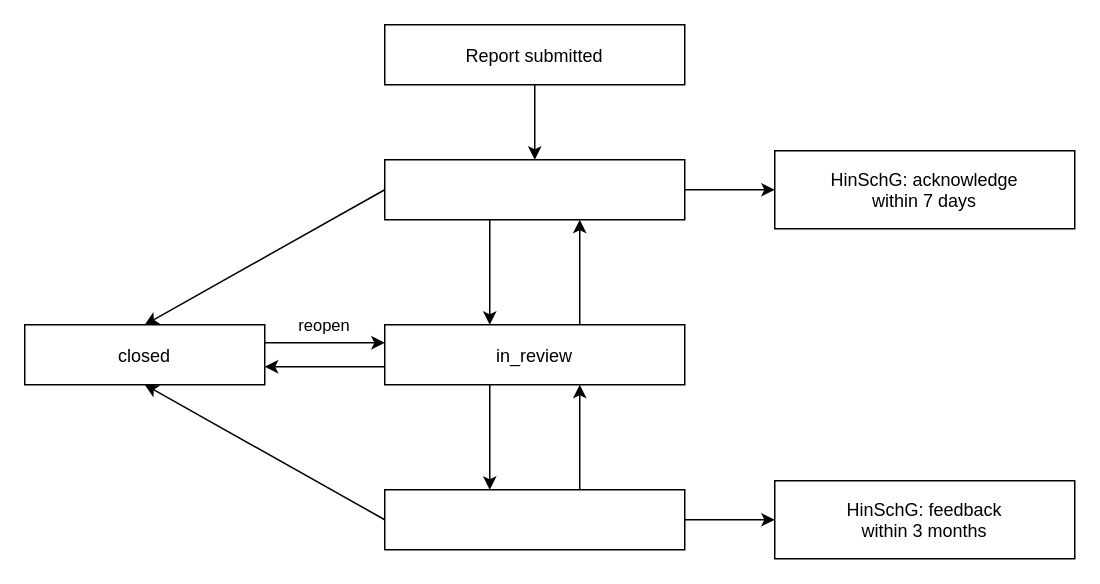
Some shapes in this 1100 by 584 pixel diagram are drawn without their labels. Here are the shapes that lost their labels. From the top down, the centre of each, then its label:
the point at 534,189: received
the point at 534,519: pending_feedback
